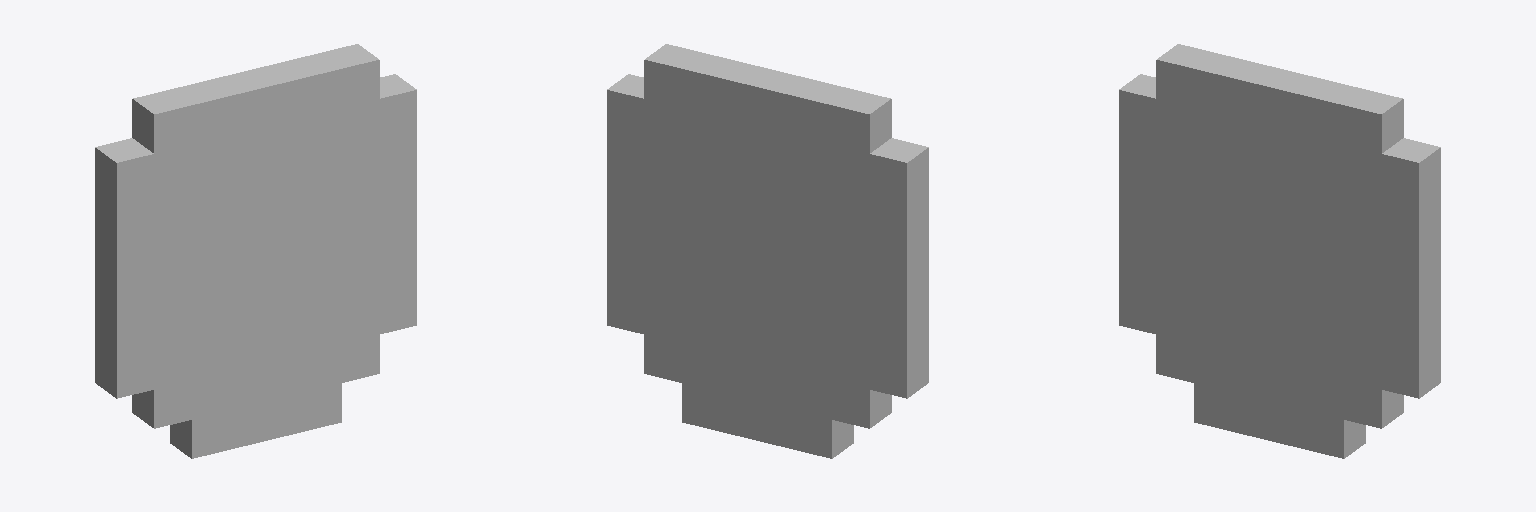
File: mask.obj
The picture shows the model from 3 angles: view 1: azimuth 30°, elevation 25°; view 2: azimuth 150°, elevation 25°; view 3: azimuth 330°, elevation 25°; orthographic projection.
Visible parts, largest first — view 1: Shape1, Shape4, Shape2, Shape3; view 2: Shape1, Shape4, Shape2, Shape3; view 3: Shape1, Shape4, Shape2, Shape3.
Part boxes in pixels (x1,y1,x2,y2): Shape1: (95,74,416,398); Shape4: (132,44,379,153); Shape2: (132,335,379,428); Shape3: (170,383,341,458); Shape1: (607,74,928,398); Shape4: (644,44,891,153); Shape2: (644,335,891,428); Shape3: (682,383,853,458); Shape1: (1119,74,1440,398); Shape4: (1156,44,1403,153); Shape2: (1156,335,1403,428); Shape3: (1194,383,1365,458).
Size of the model in its own units: 0.5 by 0.5625 by 0.0625.